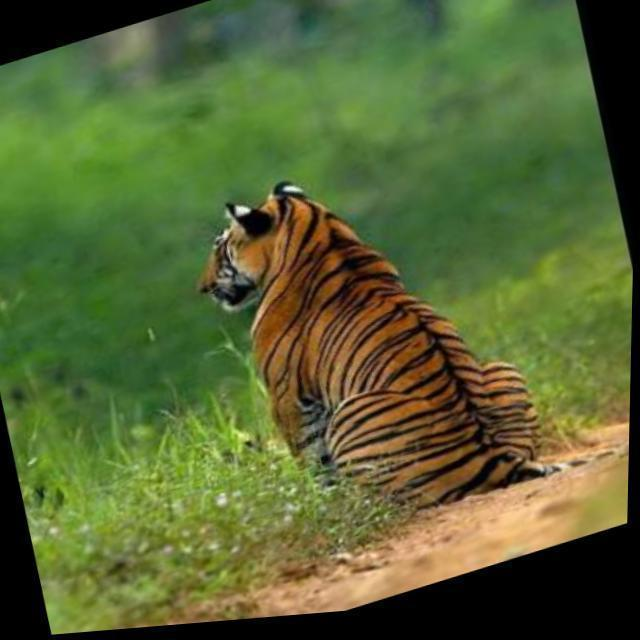tiger: (195, 179, 618, 513)
